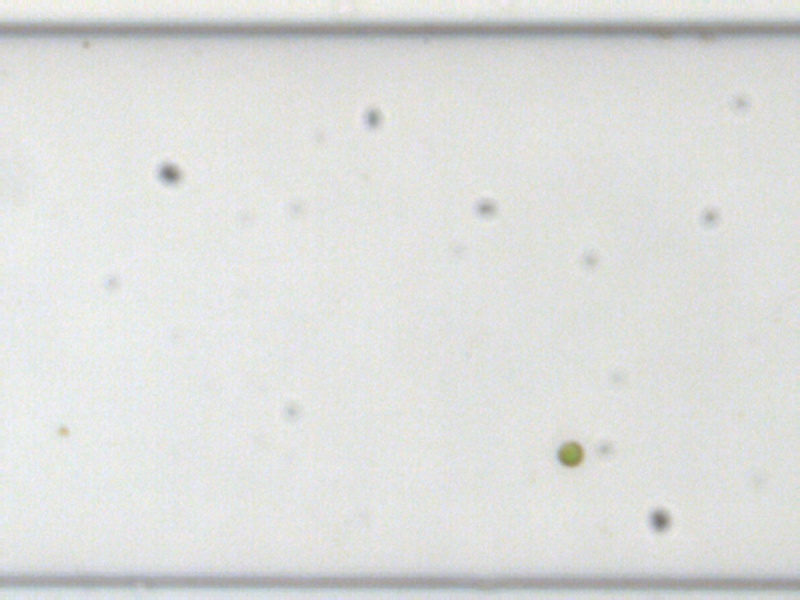Chlorella: (556, 439, 582, 466), (55, 422, 70, 437)
